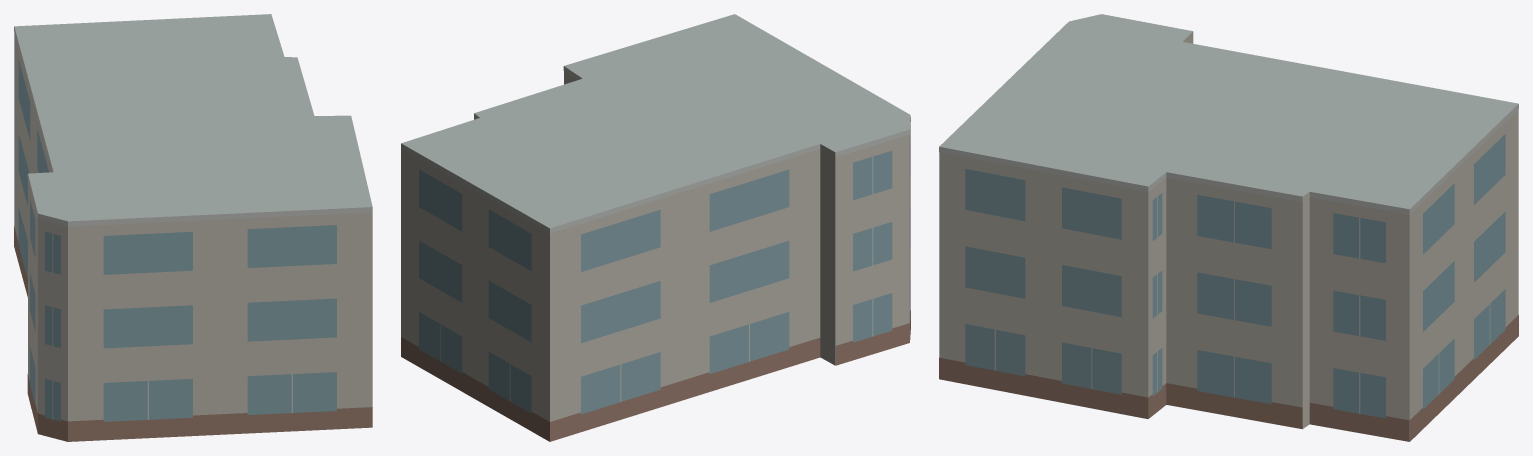
Rendered from survey-upis-32796215.glb.
The picture shows the model from 3 angles, left to right: view 1: azimuth 30°, elevation 25°; view 2: azimuth 150°, elevation 25°; view 3: azimuth 270°, elevation 25°; orthographic projection. The views are drawn at different scales.
Parts seen in each view (by area): view 1: survey-upis-32796215.tmp; view 2: survey-upis-32796215.tmp; view 3: survey-upis-32796215.tmp.
Boxes of the visible parts, x1=… form: survey-upis-32796215.tmp: x1=14, y1=14, x2=372, y2=441; survey-upis-32796215.tmp: x1=401, y1=14, x2=910, y2=441; survey-upis-32796215.tmp: x1=939, y1=14, x2=1518, y2=441.
Bounding box in the file's own units: 18.38 × 10.2 × 23.05.
